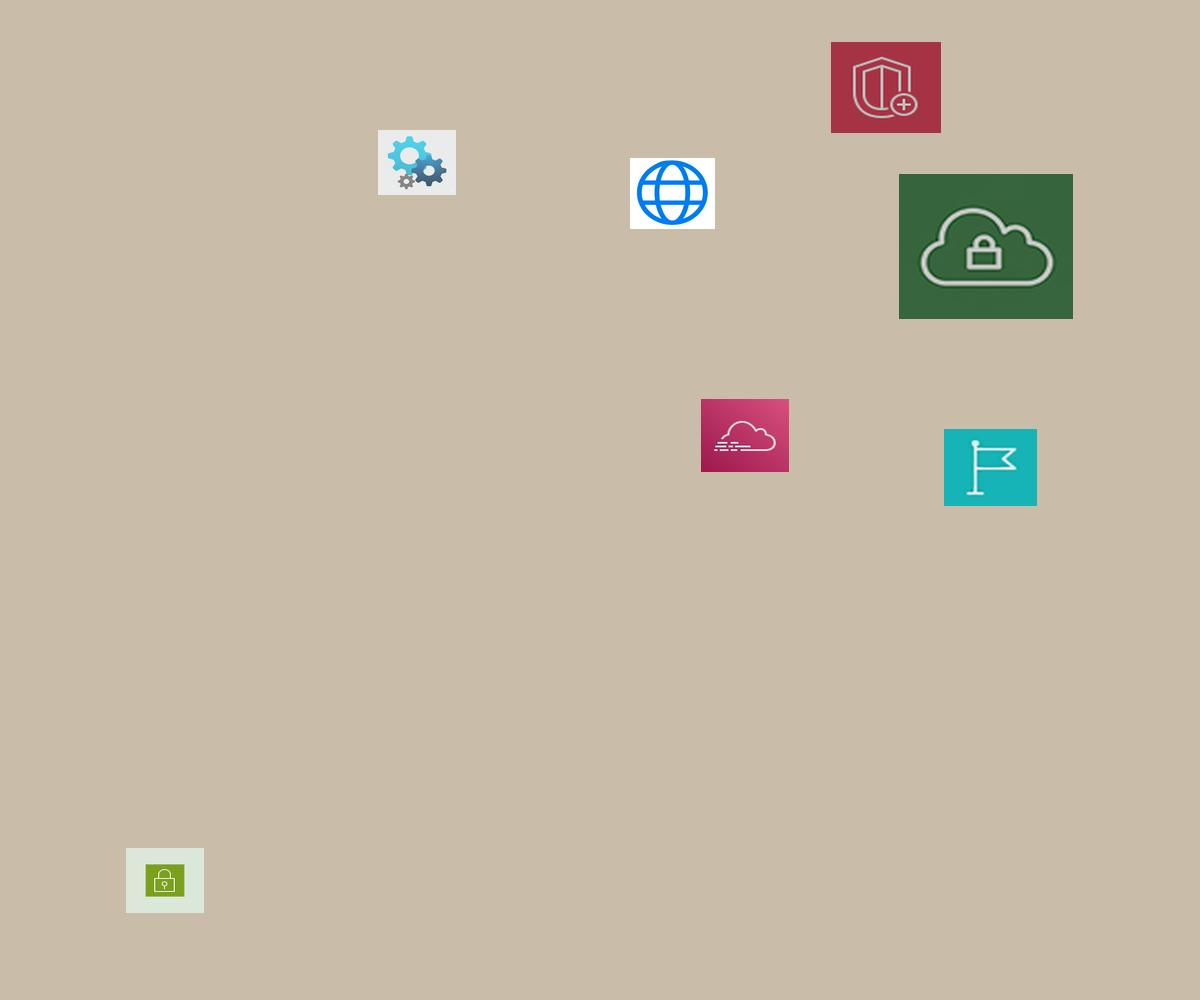AWS-CloudTrail: (701, 399, 789, 472)
AWS-Private_vpc: (899, 174, 1073, 319)
AWS-Public-subnet: (126, 848, 204, 913)
AWS-Region: (944, 429, 1037, 506)
AWS-Shield: (831, 42, 941, 133)
Azure_api: (378, 130, 456, 195)
Azure_http: (630, 158, 715, 229)
